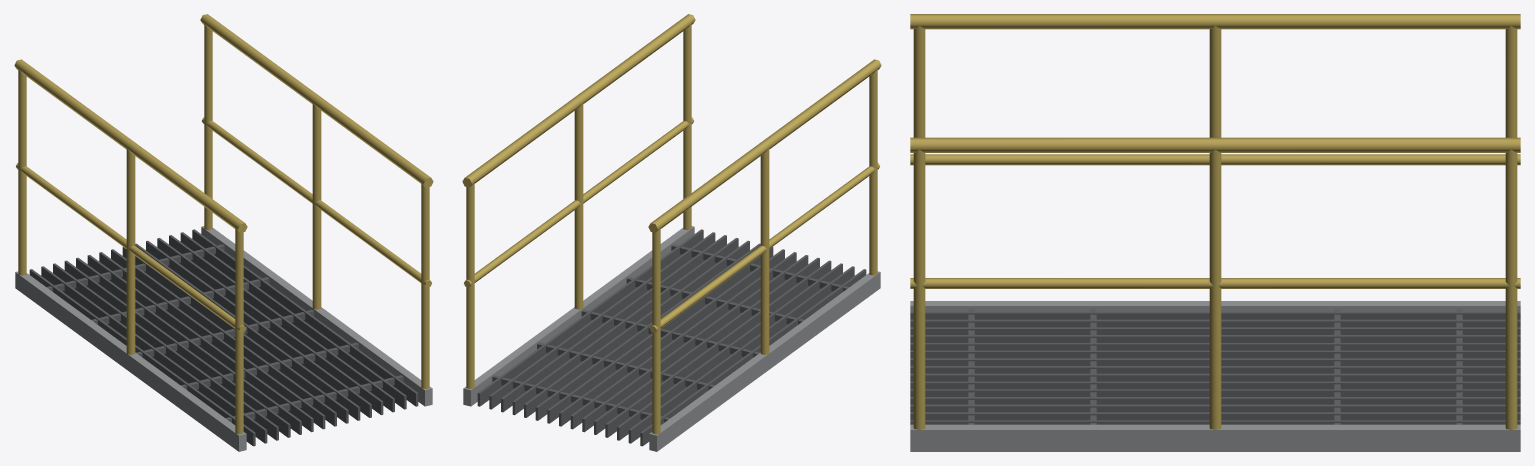
The model's file is catwalk_steel.glb.
3 views of the same model, side by side, from view 1: azimuth 30°, elevation 25°; view 2: azimuth 150°, elevation 25°; view 3: azimuth 270°, elevation 25° (orthographic). The views are drawn at different scales.
Parts seen in each view (by area): view 1: catwalk_steel; view 2: catwalk_steel; view 3: catwalk_steel.
Boxes of the visible parts, x1,y1,x2,y2 form: catwalk_steel: (14,14,433,451); catwalk_steel: (462,14,881,451); catwalk_steel: (910,14,1520,451).
Bounding box in the file's own units: 1.01 × 1.12 × 2.
